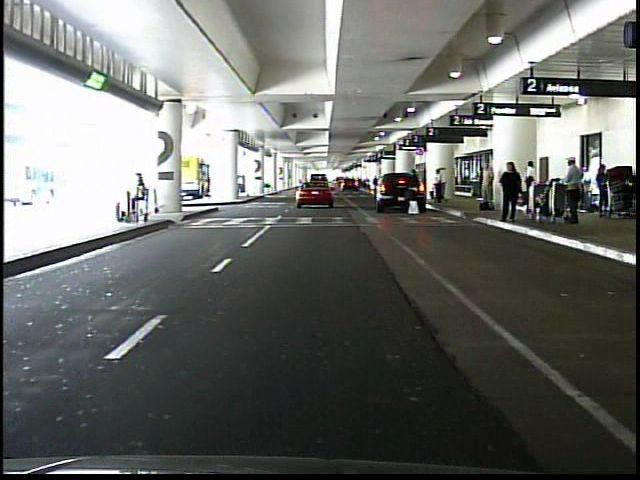person: (562, 156, 582, 233), (500, 159, 521, 223), (126, 171, 149, 222), (596, 165, 610, 219), (577, 167, 591, 212), (521, 160, 535, 205), (410, 170, 423, 216), (433, 167, 445, 205)
